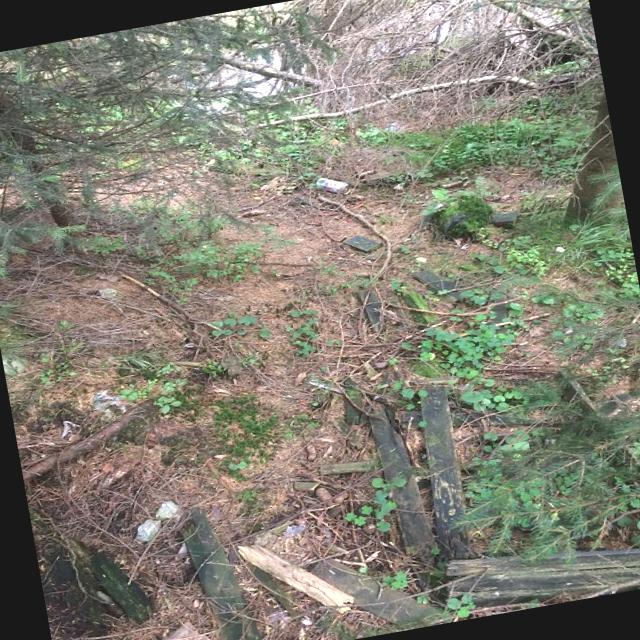Recycle: (310, 172, 352, 198)
Trash: (30, 377, 146, 453), (124, 491, 190, 551)
